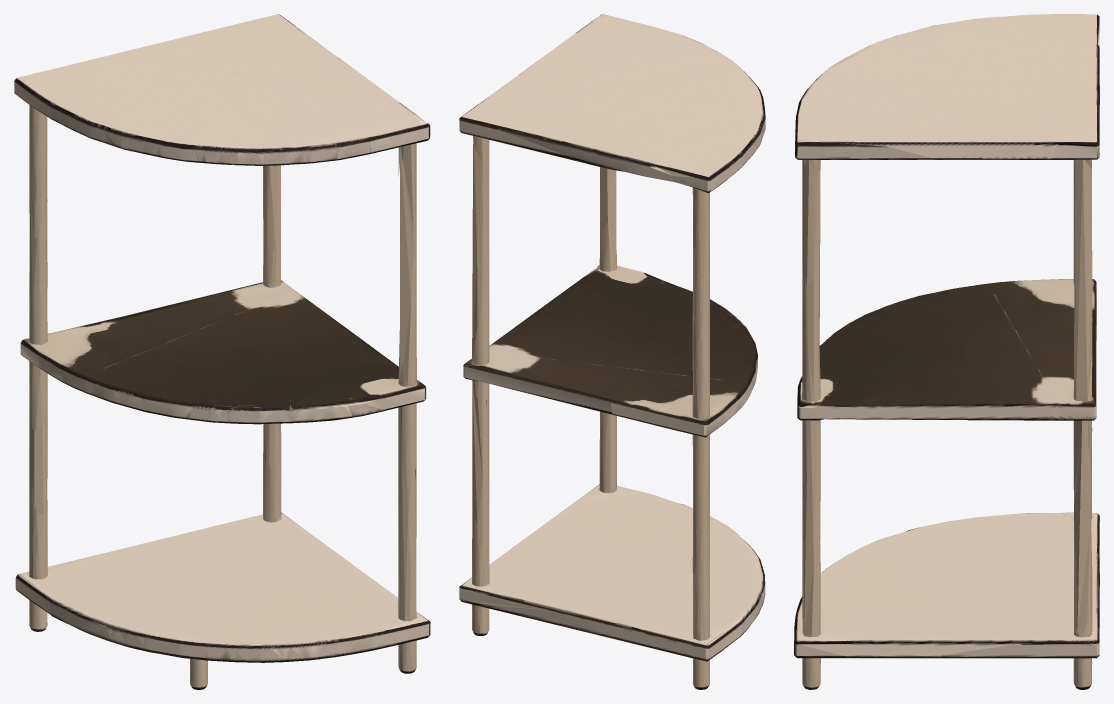
Rendered from raw_shelf_corner_3tier.glb.
3 views of the same model, side by side, from view 1: azimuth 30°, elevation 25°; view 2: azimuth 150°, elevation 25°; view 3: azimuth 270°, elevation 25° (orthographic). The views are drawn at different scales.
Bounding box in the file's own units: 0.9675 × 1.9 × 0.9561.
1 material, 1 textured.
